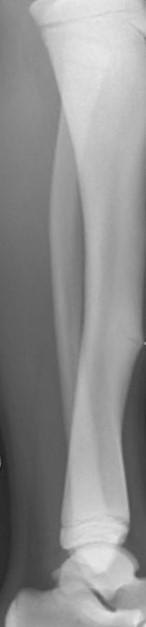fractured: (121, 326, 146, 356)
